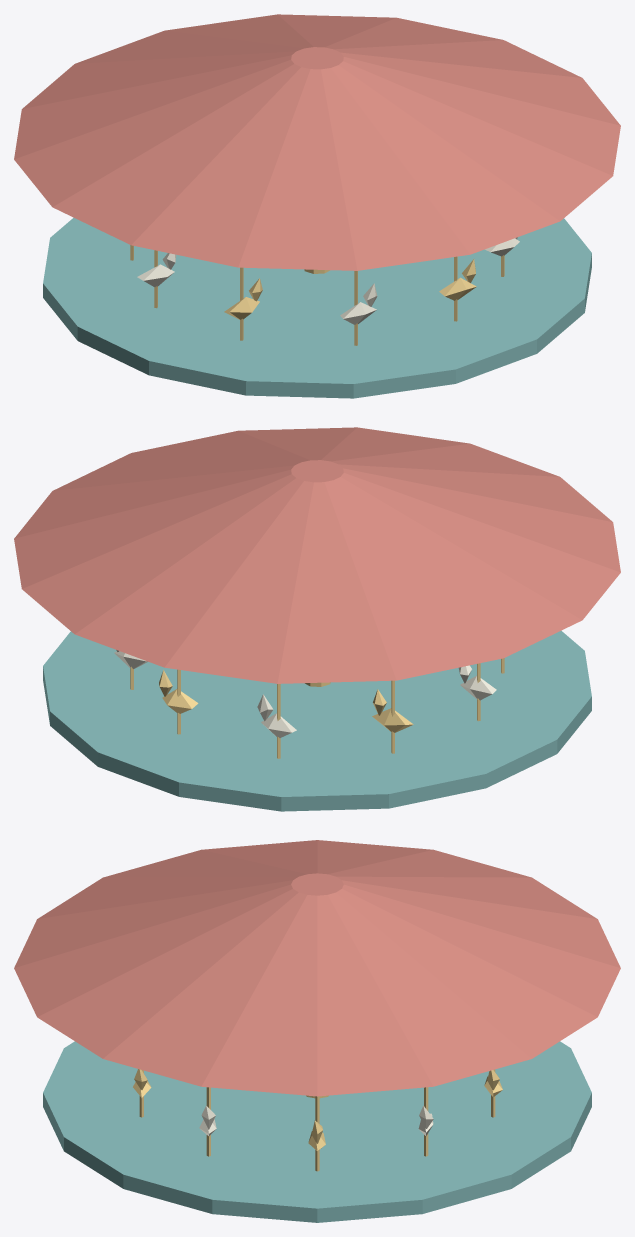
3 renders of one model, top to bottom at view 1: azimuth 30°, elevation 25°; view 2: azimuth 150°, elevation 25°; view 3: azimuth 270°, elevation 25°, orthographic.
Size of the model in its own units: 23 by 9.3 by 23.
